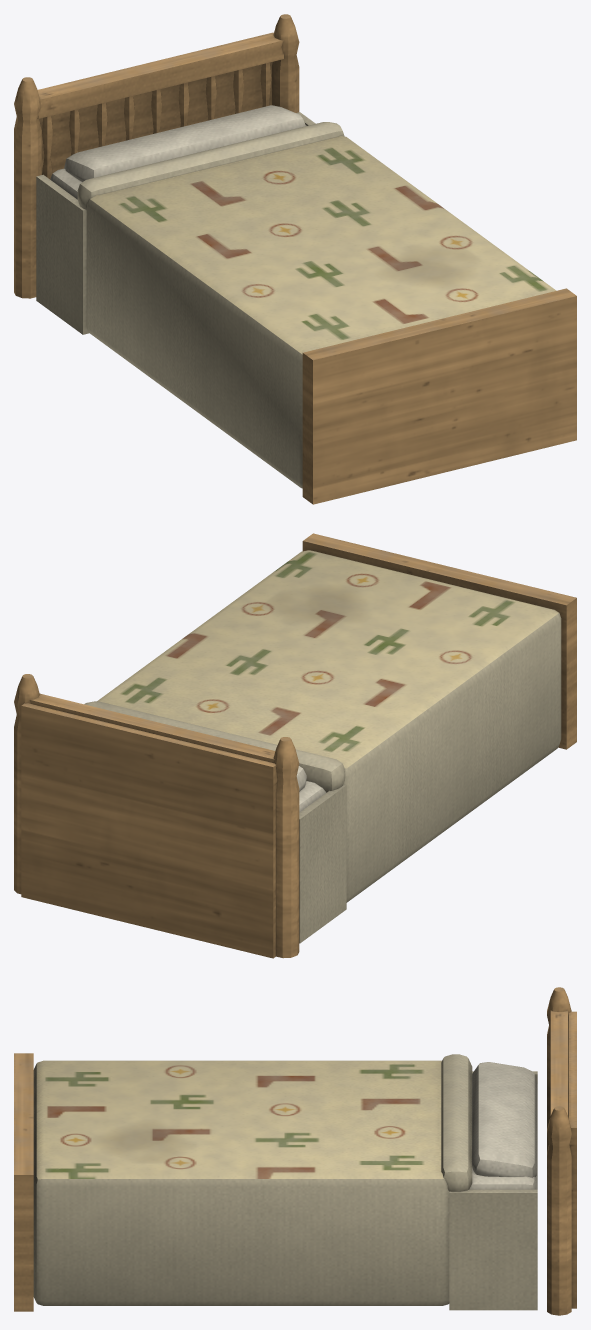
The model's file is H_Bed_Single.fbx.
The picture shows the model from 3 angles, top to bottom: view 1: azimuth 30°, elevation 25°; view 2: azimuth 150°, elevation 25°; view 3: azimuth 270°, elevation 25°; orthographic projection. The views are drawn at different scales.
Visible parts, largest first — view 1: H_Bed_Single; view 2: H_Bed_Single; view 3: H_Bed_Single.
Part boxes in pixels (x1,y1,x2,y2): H_Bed_Single: [14, 14, 576, 504]; H_Bed_Single: [14, 533, 576, 958]; H_Bed_Single: [14, 987, 576, 1315].
Bounding box in the file's own units: 470 × 340 × 860.
Materials: 1 (1 with a texture image).
